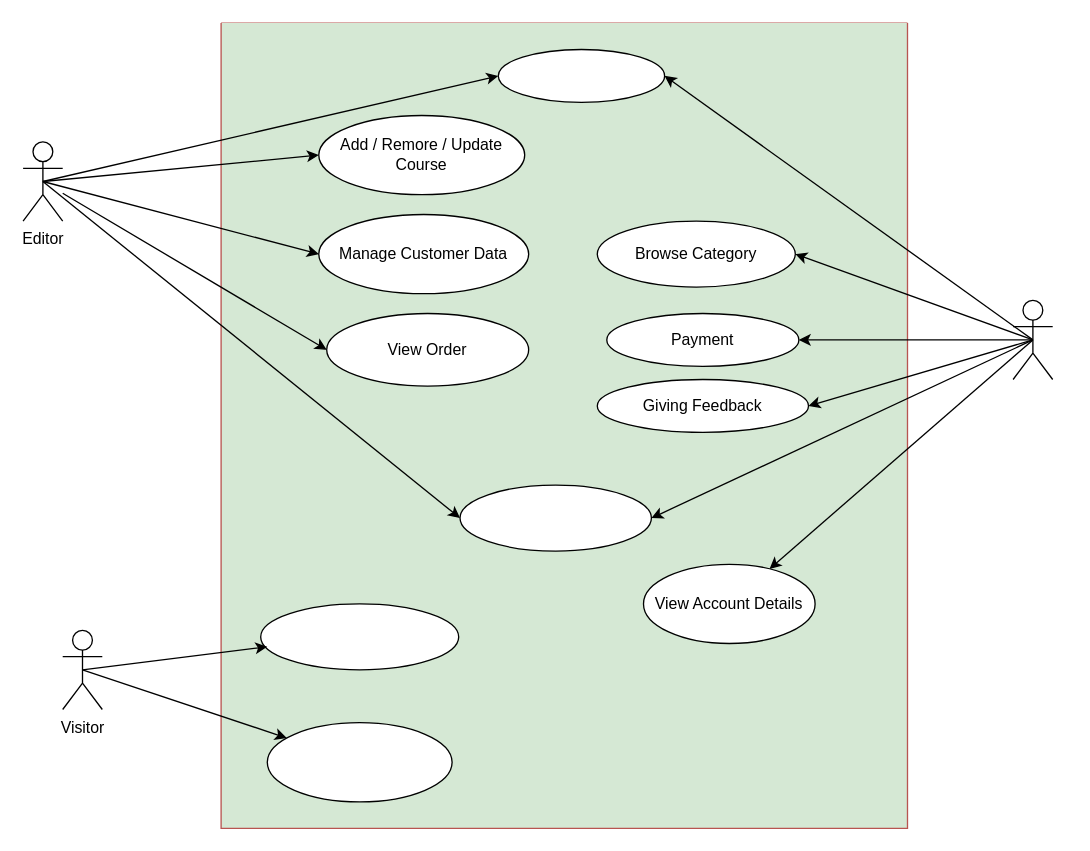
The diagram is 1090 pixels wide and 851 high, and some of its shapes have lost their labels. The shapes that lost their labels are listed below. From the top down, each one's box as (x1, y1, x2, y2) in pixels, then its label:
(497, 48, 665, 102): Login
(1012, 299, 1053, 380): Customer
(459, 484, 651, 551): Logout
(259, 603, 459, 670): Visit Site
(266, 721, 452, 802): Create New Account
